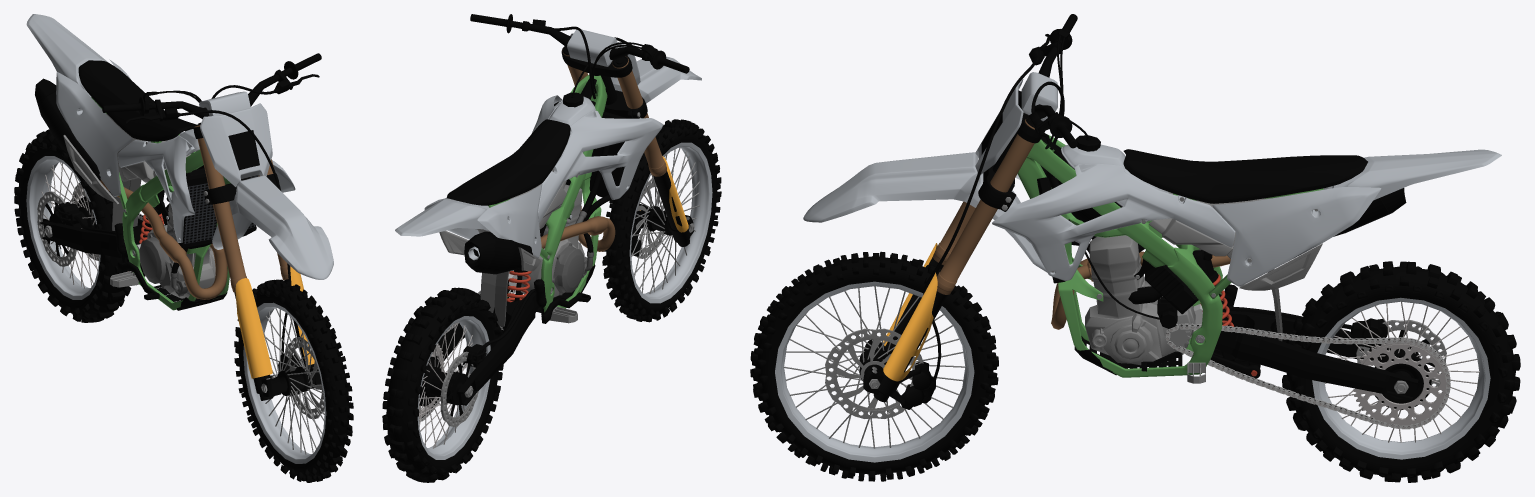
Rendered from Moto Cross.fbx.
The picture shows the model from 3 angles, left to right: view 1: azimuth 30°, elevation 25°; view 2: azimuth 150°, elevation 25°; view 3: azimuth 270°, elevation 25°; orthographic projection. The views are drawn at different scales.
Parts seen in each view (by area): view 1: polySurface1687, polySurface1220, polySurface1184, polySurface1185, polySurface1230, polySurface1369; view 2: polySurface1687, polySurface1185, polySurface1184, polySurface1220, polySurface1369, polySurface1230; view 3: polySurface1687, polySurface1184, polySurface1185, polySurface1220, polySurface1369, polySurface1230.
Part boxes in pixels (<box>): polySurface1687: <box>26,14,295,310</box>; polySurface1220: <box>102,53,333,354</box>; polySurface1184: <box>234,279,353,482</box>; polySurface1185: <box>14,129,131,322</box>; polySurface1230: <box>234,267,324,418</box>; polySurface1369: <box>37,182,164,266</box>; polySurface1687: <box>395,63,663,327</box>; polySurface1185: <box>382,287,503,482</box>; polySurface1184: <box>602,119,721,322</box>; polySurface1220: <box>470,14,701,176</box>; polySurface1369: <box>418,270,538,426</box>; polySurface1230: <box>631,156,694,258</box>; polySurface1687: <box>992,114,1501,383</box>; polySurface1184: <box>750,251,998,481</box>; polySurface1185: <box>1282,261,1520,482</box>; polySurface1220: <box>803,14,1077,381</box>; polySurface1369: <box>1165,301,1450,429</box>; polySurface1230: <box>825,243,947,418</box>.
Size of the model in its own units: 70.65 by 106 by 180.
Materials: 1 (1 with a texture image).
